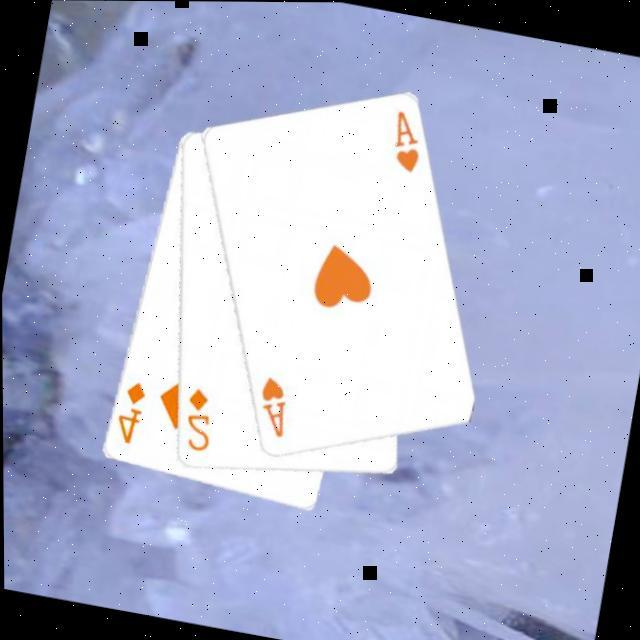2D: (177, 384, 221, 457)
4D: (110, 376, 151, 450)
AH: (250, 373, 297, 443), (384, 107, 430, 178)
